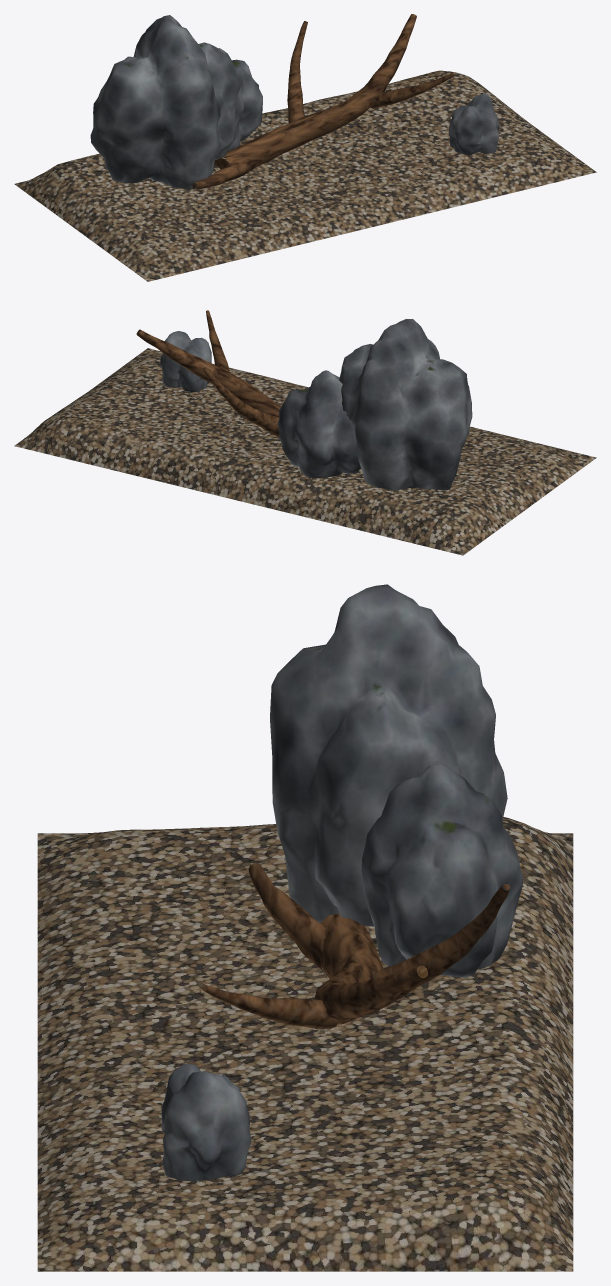
The model's file is aquarium-substrate.glb.
3 renders of one model, top to bottom at view 1: azimuth 30°, elevation 25°; view 2: azimuth 150°, elevation 25°; view 3: azimuth 270°, elevation 25°, orthographic. The views are drawn at different scales.
Parts seen in each view (by area): view 1: gravel_bed, aquarium_rock_01, driftwood_01, aquarium_rock_03, aquarium_rock_02; view 2: gravel_bed, aquarium_rock_01, aquarium_rock_02, driftwood_01, aquarium_rock_03; view 3: gravel_bed, aquarium_rock_01, aquarium_rock_02, driftwood_01, aquarium_rock_03.
Part boxes in pixels (<box>): gravel_bed: <box>14,70,596,281</box>; aquarium_rock_01: <box>90,15,240,189</box>; driftwood_01: <box>192,14,454,189</box>; aquarium_rock_03: <box>448,93,499,155</box>; aquarium_rock_02: <box>218,48,262,151</box>; gravel_bed: <box>14,348,596,555</box>; aquarium_rock_01: <box>339,319,472,490</box>; aquarium_rock_02: <box>277,370,360,478</box>; driftwood_01: <box>136,310,280,436</box>; aquarium_rock_03: <box>160,331,211,392</box>; gravel_bed: <box>37,816,573,1271</box>; aquarium_rock_01: <box>270,584,507,926</box>; aquarium_rock_02: <box>361,760,523,977</box>; driftwood_01: <box>202,863,509,1029</box>; aquarium_rock_03: <box>161,1064,251,1180</box>.
Bounding box in the file's own units: 0.62 × 0.23 × 0.32.
Materials: 5 (5 with a texture image).
